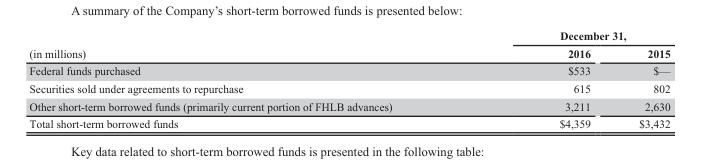table: (28, 28, 669, 129)
table column: (28, 28, 475, 129), (475, 28, 614, 129), (614, 28, 669, 129)
table column header: (28, 28, 669, 61)
table row: (28, 43, 669, 61), (28, 61, 669, 79), (28, 96, 669, 114), (28, 79, 669, 96), (28, 28, 669, 43), (28, 114, 669, 129)
table spanning cell: (28, 28, 475, 61), (475, 28, 669, 43)
